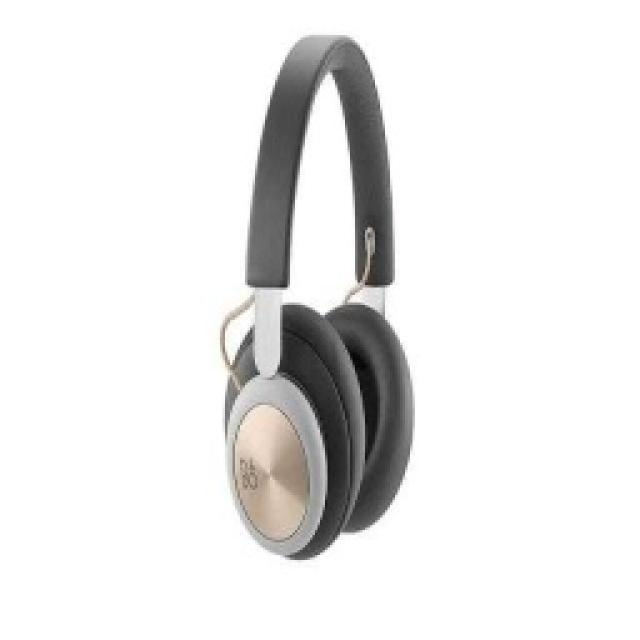headphones: (217, 30, 415, 560)
